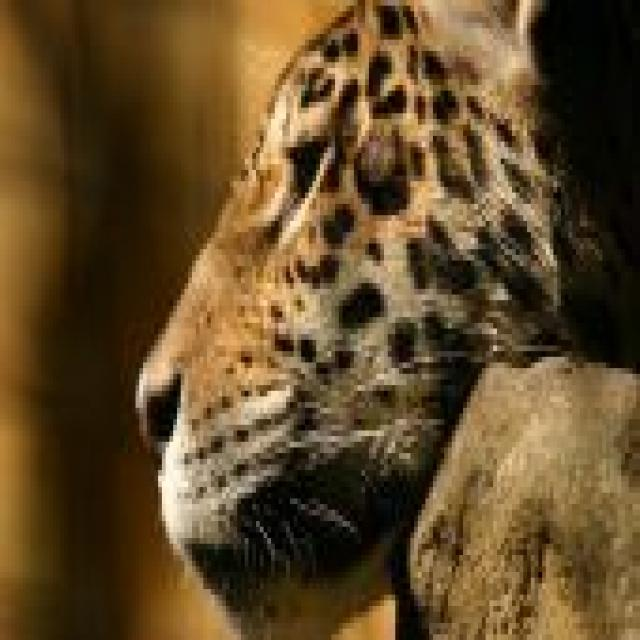Leopard: (124, 0, 572, 629)
